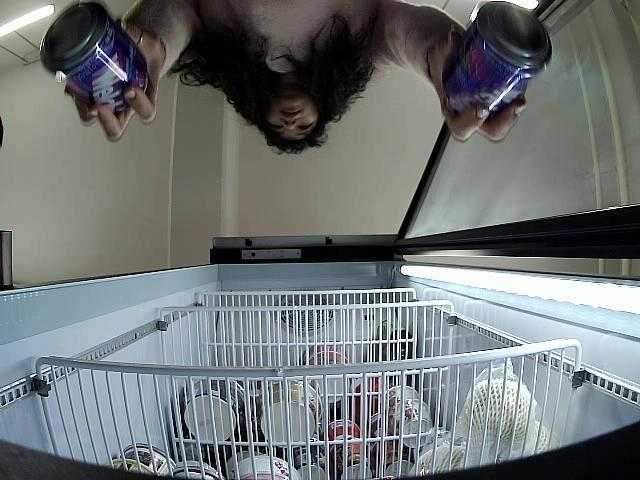14_welchsGrape: (442, 2, 553, 117), (40, 4, 150, 120)
